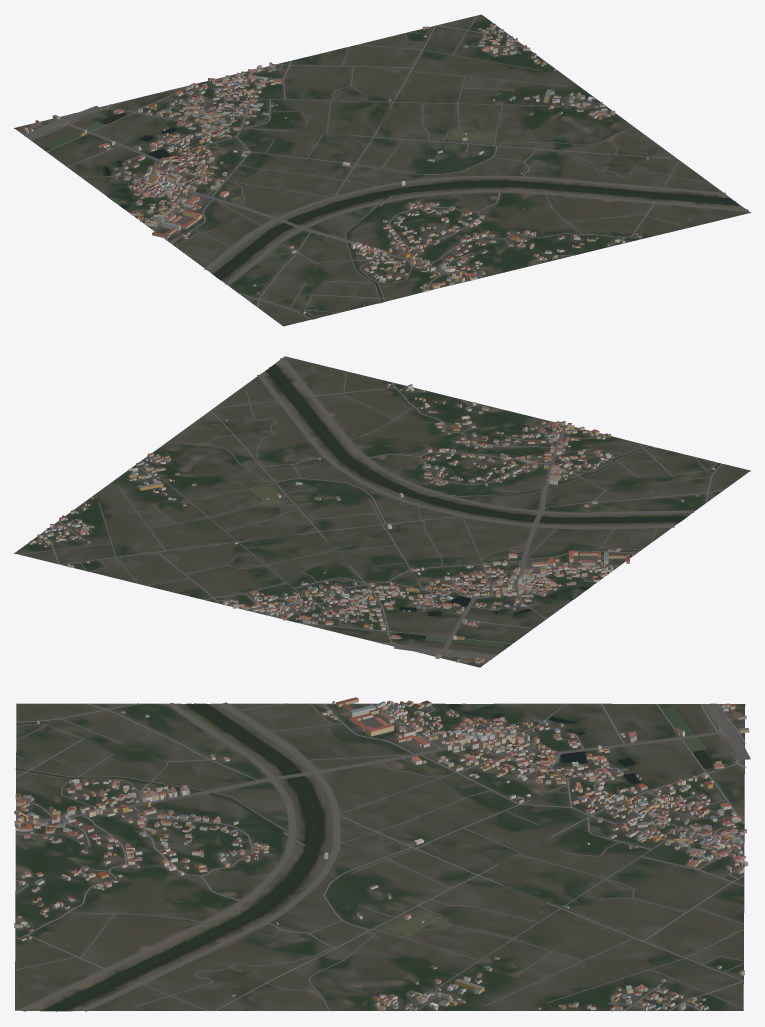
3 views of the same model, one above another, from view 1: azimuth 30°, elevation 25°; view 2: azimuth 150°, elevation 25°; view 3: azimuth 270°, elevation 25° (orthographic). The views are drawn at different scales.
Visible parts, largest first — view 1: ground, buildings, roads, water; view 2: ground, buildings, roads, water; view 3: ground, buildings, roads, water.
Part boxes in pixels (x1,y1,x2,y2): ground: (14, 14, 750, 326); buildings: (22, 23, 648, 313); roads: (24, 15, 748, 319); water: (44, 113, 739, 319); ground: (14, 356, 750, 667); buildings: (29, 382, 714, 663); roads: (18, 358, 724, 662); water: (266, 364, 720, 647); ground: (15, 703, 745, 1011); buildings: (14, 697, 749, 1011); roads: (15, 702, 750, 1011); water: (15, 703, 713, 1011).
Size of the model in its own units: 1419 by 15.76 by 1418.
